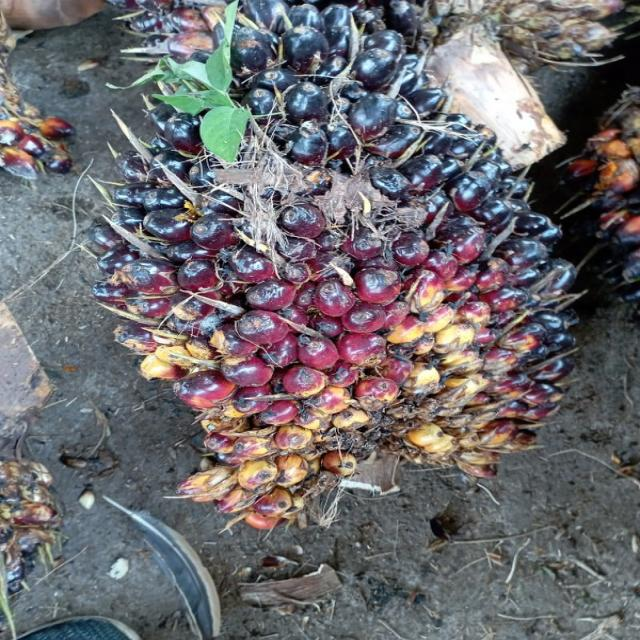fraksi 00: (91, 0, 578, 485)
